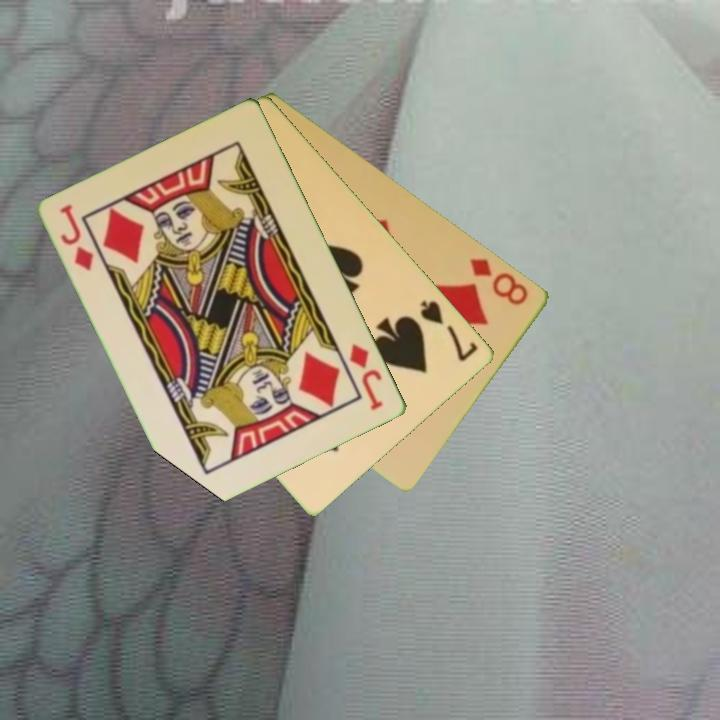7s: (416, 296, 482, 365)
8d: (467, 254, 532, 308)
Jd: (56, 201, 98, 274), (346, 340, 387, 414)
